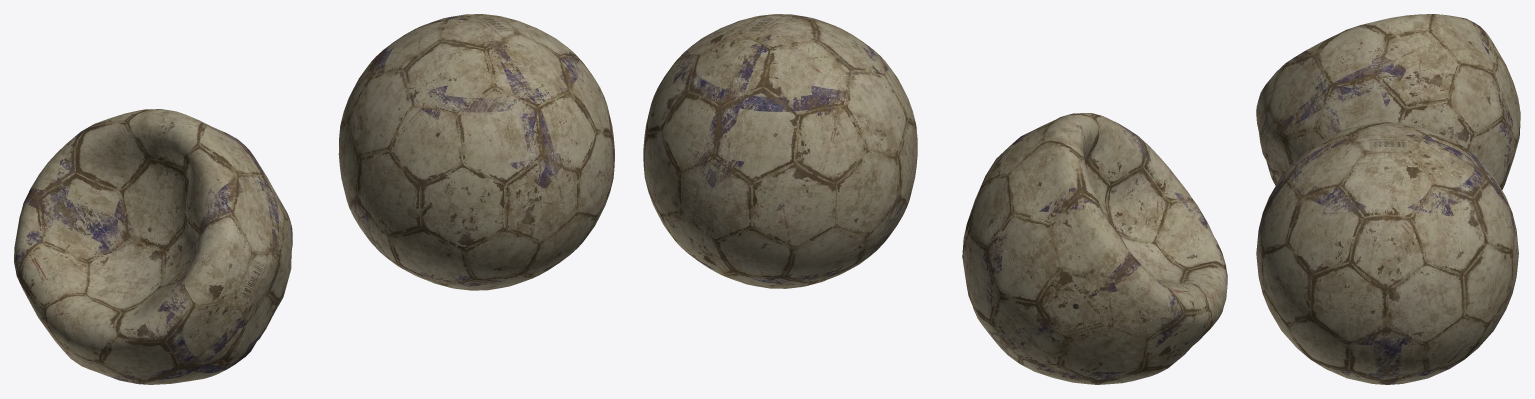
The model's file is football.glb.
The picture shows the model from 3 angles, left to right: view 1: azimuth 30°, elevation 25°; view 2: azimuth 150°, elevation 25°; view 3: azimuth 270°, elevation 25°; orthographic projection. The views are drawn at different scales.
Visible parts, largest first — view 1: football_deflated; view 2: football_deflated; view 3: football_deflated.
Boxes of the visible parts, x1,y1,x2,y2 form: football_deflated: [14, 14, 614, 384]; football_deflated: [643, 14, 1227, 384]; football_deflated: [1256, 14, 1520, 384].
Size of the model in its own units: 0.5089 by 0.2219 by 0.2222.
1 material, 1 textured.
